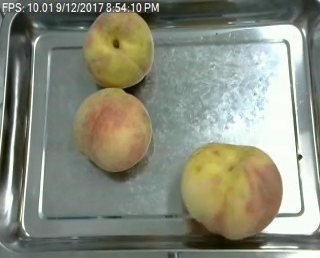Peach: (180, 141, 284, 241), (76, 87, 151, 172), (84, 7, 155, 91)
